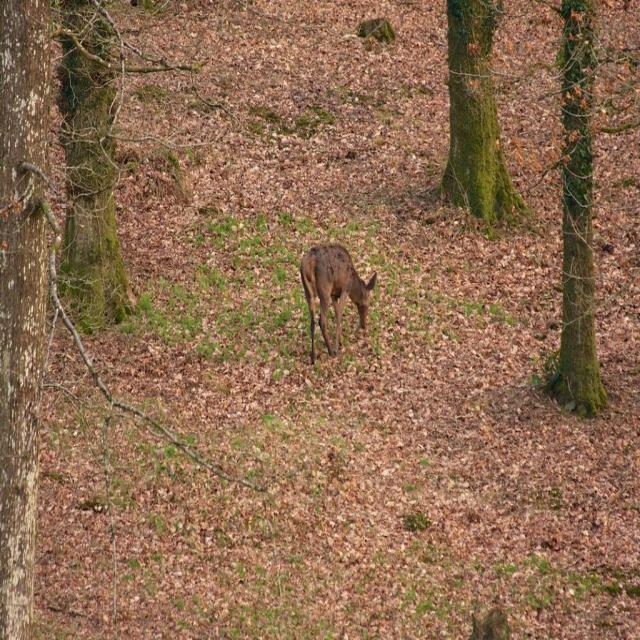Deer: (302, 239, 377, 357)
